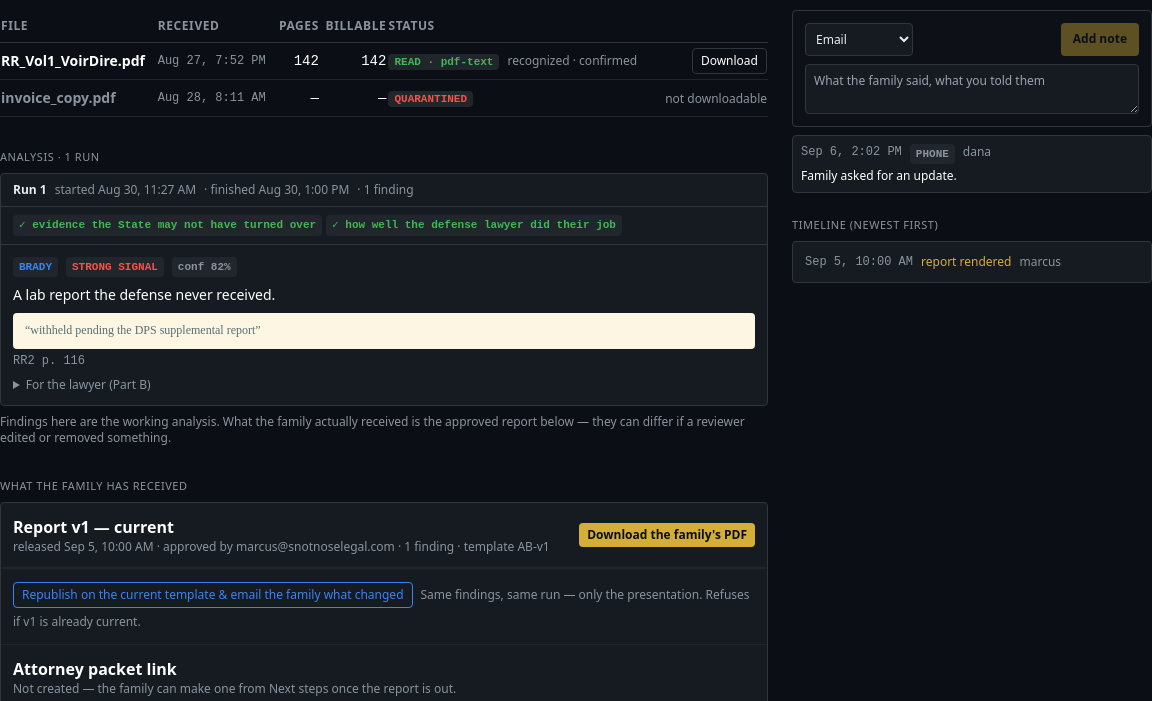
case file — live pipeline card (2026-09-09) › ADMIN can republish the report on the current template; the result names the version and the email (PO, 2026-09-12)
(page scrolled)
Click the button with test id "republish-report" at x=213, y=595, box x1=13 y1=582 x2=412 y2=608
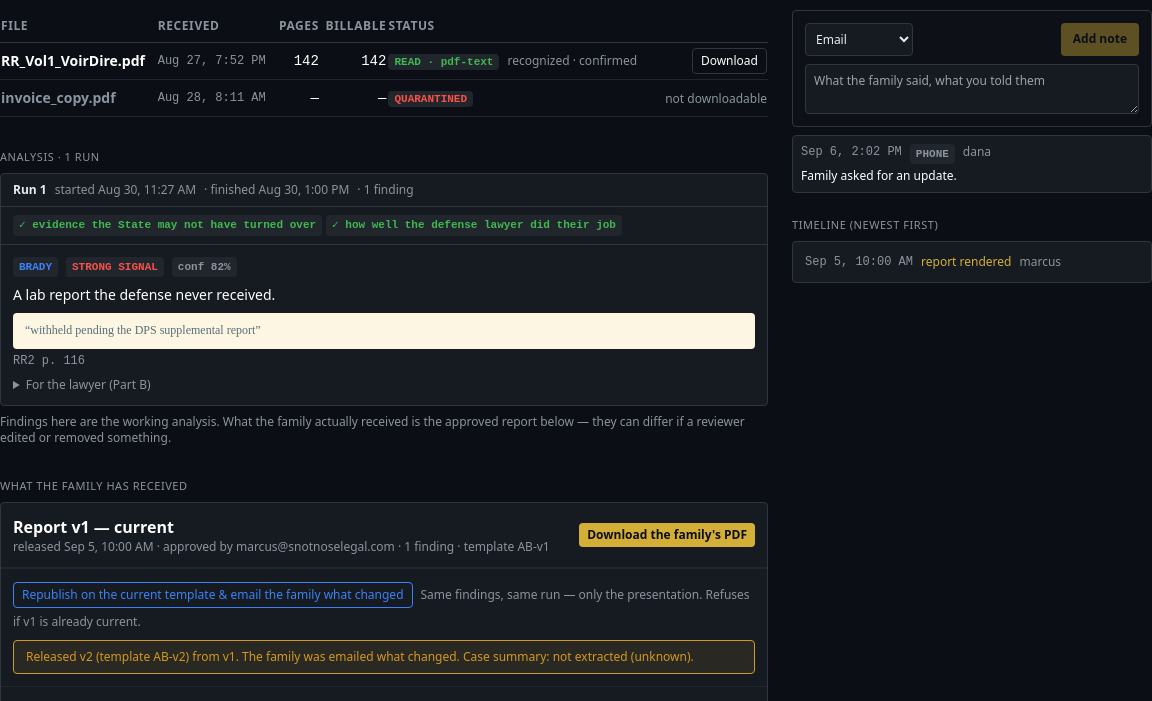
Expected: the message with test id "republish-result" shows "Released v2 (template AB-v2) from v1. The family was emailed what changed.", x1=26 y1=648 x2=694 y2=665
